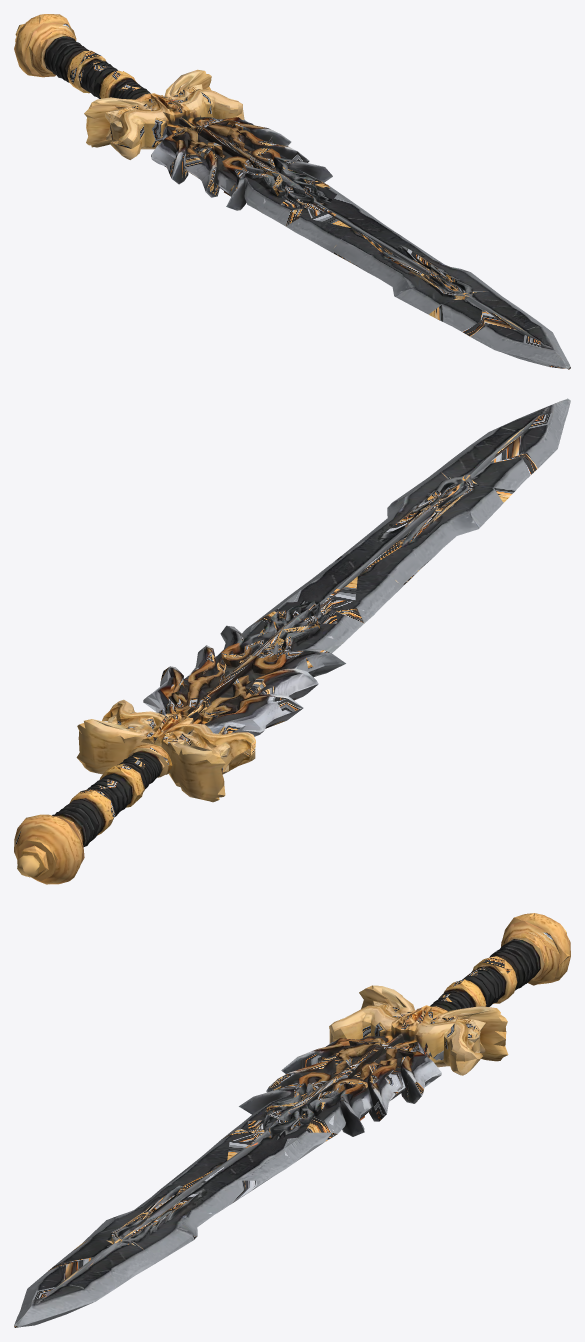
Rendered from warrior_sword_t2.8a3fb2a1.glb.
3 renders of one model, top to bottom at view 1: azimuth 30°, elevation 25°; view 2: azimuth 150°, elevation 25°; view 3: azimuth 330°, elevation 25°, orthographic. The views are drawn at different scales.
Parts seen in each view (by area): view 1: tripo_node_0bd62159-075c-4550-a59c-40db752221ed; view 2: tripo_node_0bd62159-075c-4550-a59c-40db752221ed; view 3: tripo_node_0bd62159-075c-4550-a59c-40db752221ed.
Part boxes in pixels (x1,y1,x2,y2): tripo_node_0bd62159-075c-4550-a59c-40db752221ed: (14, 14, 570, 369); tripo_node_0bd62159-075c-4550-a59c-40db752221ed: (14, 398, 570, 884); tripo_node_0bd62159-075c-4550-a59c-40db752221ed: (14, 913, 570, 1327).
Bounding box in the file's own units: 0.2094 × 0.105 × 1.41.
1 material, 1 textured.
